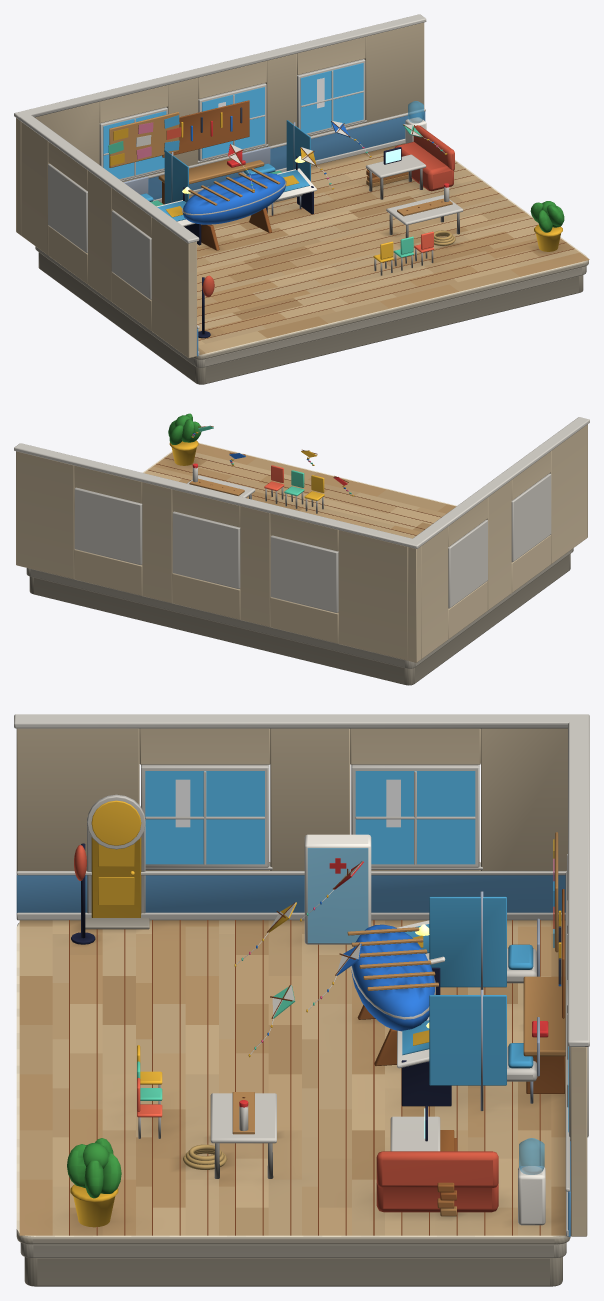
File: workplace.glb
3 views of the same model, one above another, from view 1: azimuth 30°, elevation 25°; view 2: azimuth 150°, elevation 25°; view 3: azimuth 270°, elevation 25° (orthographic). The views are drawn at different scales.
Visible parts, largest first — view 1: workplace_Satin, workplace_Gloss, workplace_Matte, Var_studio_Satin, Var_workshop_Satin, Var_clinic_Satin, Var_workshop_Gloss, Var_studio_Gloss, Var_clinic_Gloss, Var_clinic_Metal; view 2: workplace_Satin, workplace_Matte, Var_clinic_Gloss, Var_studio_Satin, workplace_Gloss; view 3: workplace_Satin, workplace_Gloss, Var_clinic_Satin, workplace_Matte, Var_studio_Satin, Var_workshop_Satin, Var_clinic_Gloss, Var_workshop_Gloss, Var_clinic_Glass, Var_studio_Gloss, Var_clinic_Metal, workplace_Glass.
Part boxes in pixels (x1=…): workplace_Satin: x1=14, y1=14, x2=589, y2=384; workplace_Gloss: x1=103, y1=63, x2=562, y2=338; workplace_Matte: x1=193, y1=156, x2=588, y2=359; Var_studio_Satin: x1=108, y1=112, x2=463, y2=237; Var_workshop_Satin: x1=158, y1=100, x2=455, y2=250; Var_clinic_Satin: x1=140, y1=120, x2=433, y2=275; Var_workshop_Gloss: x1=181, y1=107, x2=286, y2=224; Var_studio_Gloss: x1=156, y1=156, x2=449, y2=245; Var_clinic_Gloss: x1=373, y1=147, x2=434, y2=262; Var_clinic_Metal: x1=124, y1=122, x2=301, y2=215; workplace_Satin: x1=14, y1=413, x2=589, y2=685; workplace_Matte: x1=143, y1=443, x2=456, y2=535; Var_clinic_Gloss: x1=264, y1=465, x2=324, y2=500; Var_studio_Satin: x1=187, y1=475, x2=255, y2=499; workplace_Gloss: x1=169, y1=440, x2=198, y2=465; workplace_Satin: x1=14, y1=714, x2=589, y2=1286; workplace_Gloss: x1=70, y1=771, x2=568, y2=1227; Var_clinic_Satin: x1=138, y1=858, x2=537, y2=1151; workplace_Matte: x1=16, y1=920, x2=570, y2=1244; Var_studio_Satin: x1=210, y1=832, x2=558, y2=1212; Var_workshop_Satin: x1=183, y1=889, x2=565, y2=1216; Var_clinic_Gloss: x1=137, y1=834, x2=427, y2=1141; Var_workshop_Gloss: x1=350, y1=910, x2=561, y2=1037; Var_clinic_Glass: x1=307, y1=848, x2=368, y2=943; Var_studio_Gloss: x1=239, y1=920, x2=451, y2=1131; Var_clinic_Metal: x1=480, y1=891, x2=539, y2=1110; workplace_Glass: x1=519, y1=1138, x2=544, y2=1174.
Size of the model in its own units: 14 by 4.98 by 10.4.
